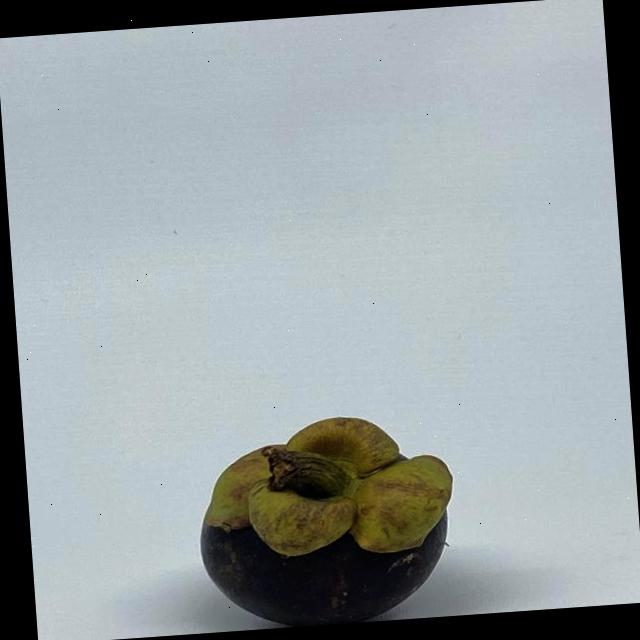mangosteen: (178, 402, 504, 634)
